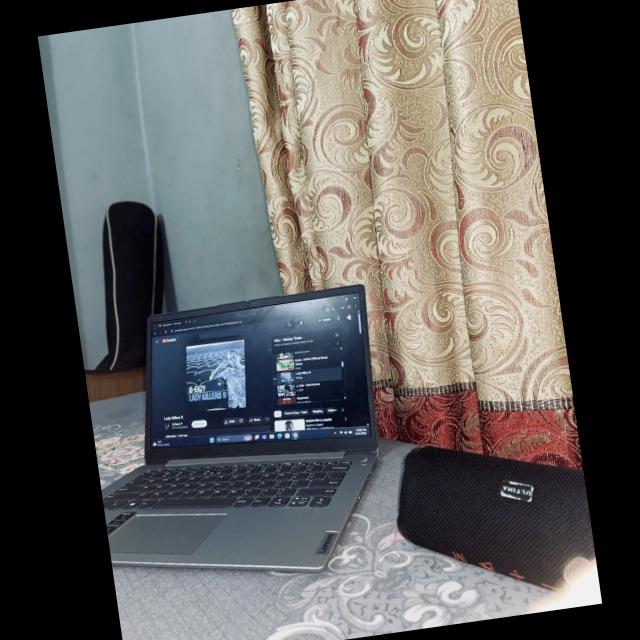laptop: (102, 285, 378, 571)
